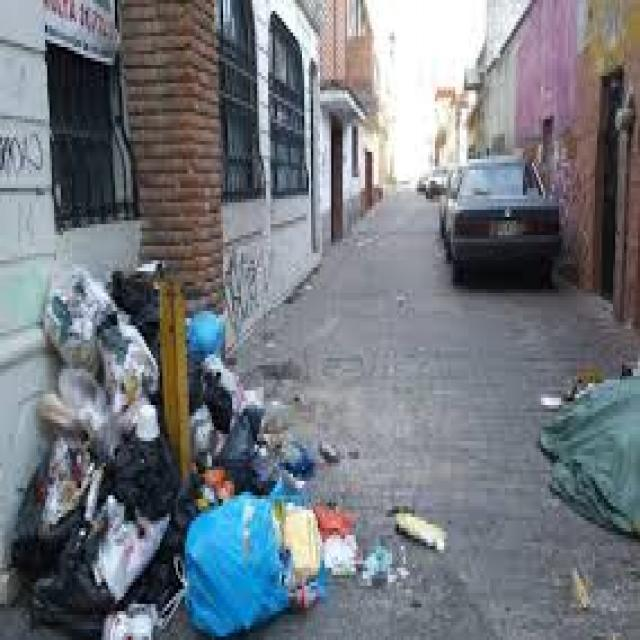garbage: (4, 250, 358, 636), (531, 344, 640, 557)
